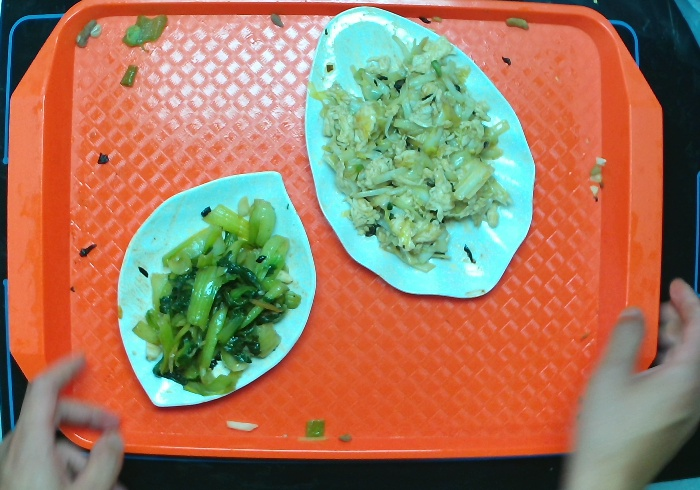RJxy-Bai_Ye_Pan: (299, 1, 537, 304)
RJxy-Da_Du_Pan: (111, 166, 317, 410)
